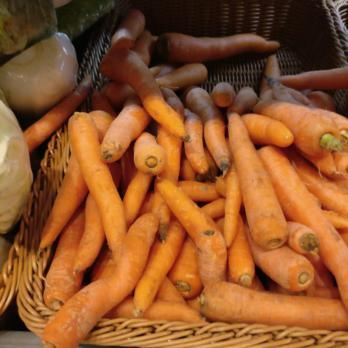Carrot: (54, 96, 348, 311), (158, 22, 281, 67), (107, 6, 161, 96)
